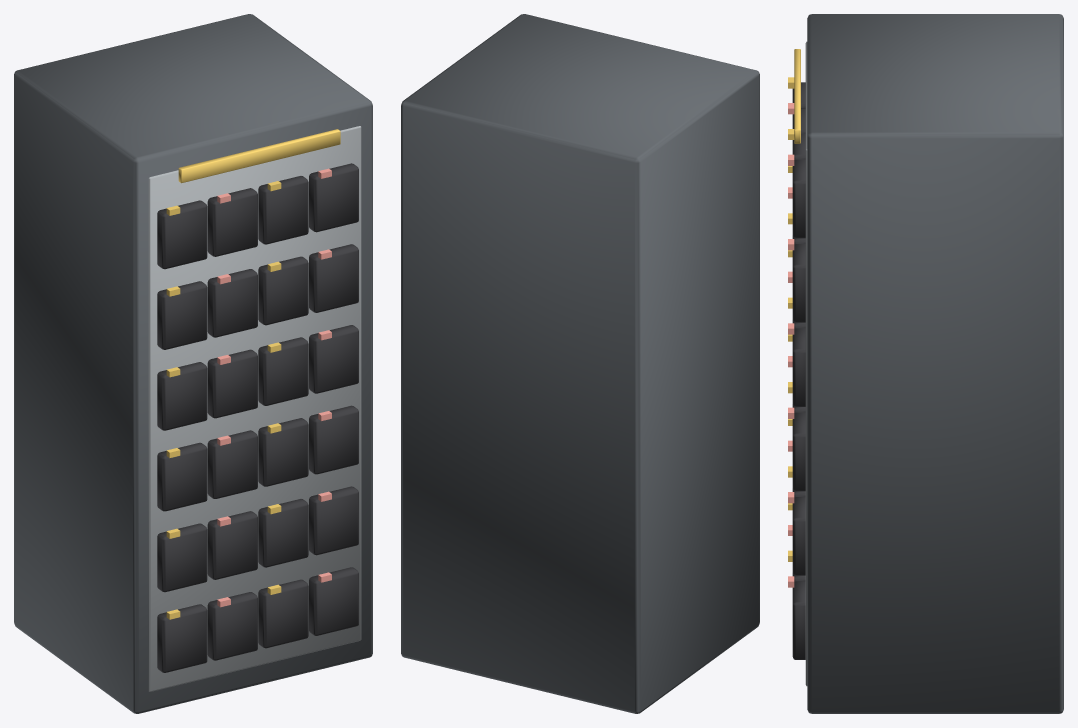
File: battery.glb
3 views of the same model, side by side, from view 1: azimuth 30°, elevation 25°; view 2: azimuth 150°, elevation 25°; view 3: azimuth 270°, elevation 25° (orthographic). The views are drawn at different scales.
Parts seen in each view (by area): view 1: Body; view 2: Body; view 3: Body.
Part boxes in pixels (x1,y1,x2,y2): Body: [14, 14, 372, 713]; Body: [401, 14, 759, 713]; Body: [788, 14, 1063, 713].
Bounding box in the file's own units: 0.9 × 2 × 0.86.
